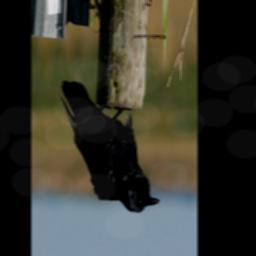Crow: (59, 78, 160, 213)
